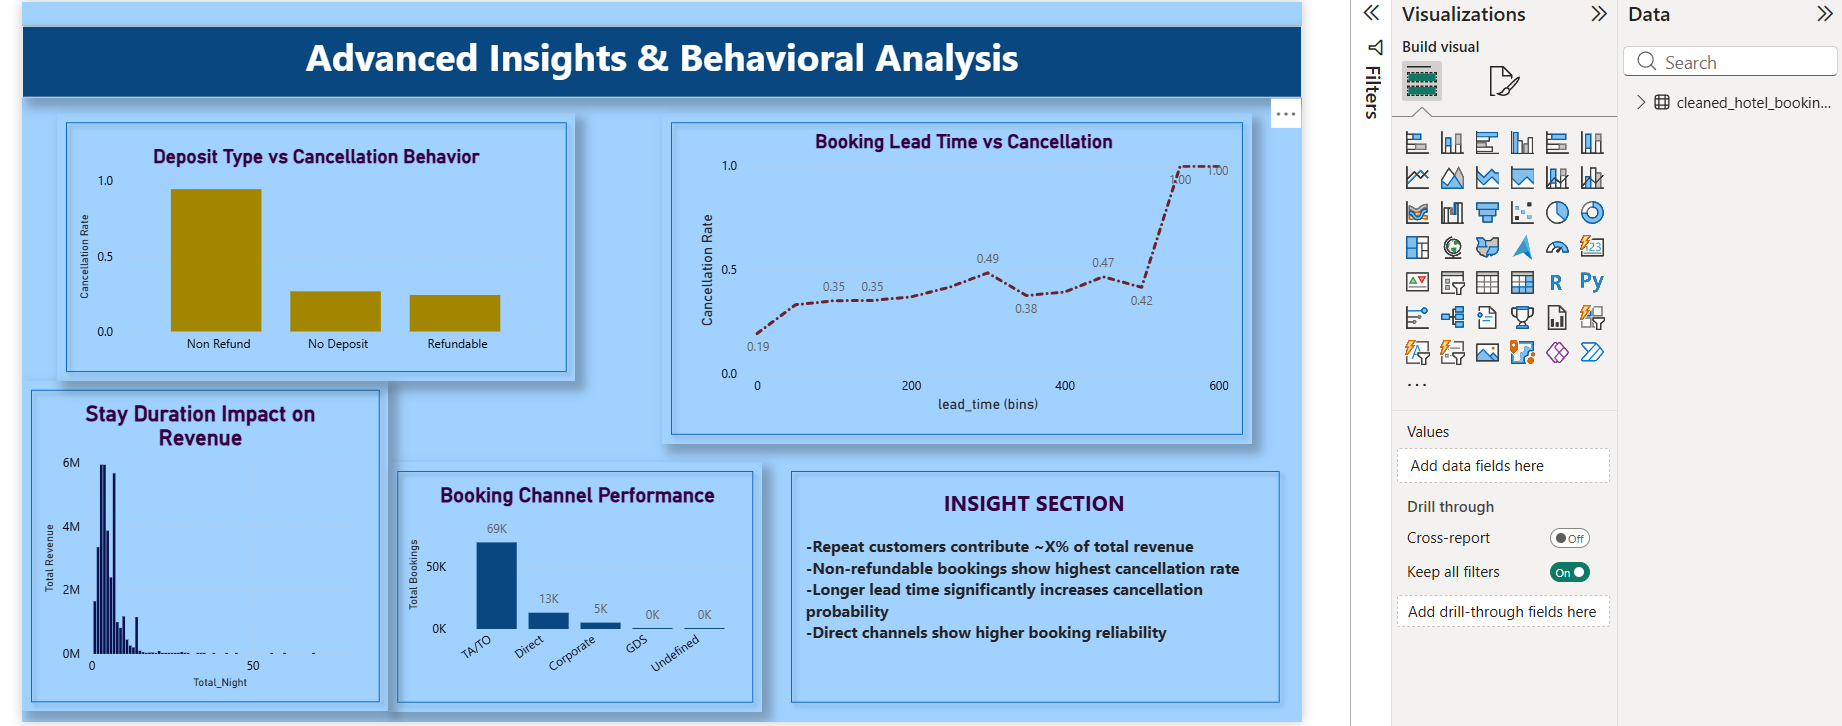

Layout of this report page (visuals, bound fields, positions):
{"tool":"powerbi","page":{"name":"Page 3","canvas":[1280,720],"ordinal":2},"visuals":[{"type":"textbox","box":[0,24.1,1280,72.4],"z":0},{"type":"shape","box":[640.6,111,589.9,330.6],"z":2000},{"type":"shape","box":[0,378.8,366.8,330.6],"z":3000},{"type":"shape","box":[366.8,459.7,374,249.7],"z":4000},{"type":"columnChart","title":"Deposit Type vs Cancellation Behavior","fields":{"Category":["cleaned_hotel_booking (11).deposit_type"],"Y":["cleaned_hotel_booking (11).Cancellation Rate"]},"box":[53.1,143.6,483.8,216],"z":5000},{"type":"lineChart","title":"Booking Lead Time vs Cancellation","fields":{"Y":["cleaned_hotel_booking (11).Cancellation Rate"],"Category":["cleaned_hotel_booking (11).lead_time (bins)"]},"box":[672,129.1,539.3,287.1],"z":6000},{"type":"columnChart","title":"Booking Channel Performance","fields":{"Category":["cleaned_hotel_booking (11).distribution_channel"],"Y":["cleaned_hotel_booking (11).Total Bookings"]},"box":[381.2,481.4,348.7,209.9],"z":7000},{"type":"columnChart","title":"Stay Duration Impact on Revenue","fields":{"Y":["cleaned_hotel_booking (11).Total Revenue"],"Category":["cleaned_hotel_booking (11).Total_Night"]},"box":[16.9,398.1,322.1,293.2],"z":8000},{"type":"shape","box":[760.1,459.7,506.7,249.7],"z":9000},{"type":"textbox","box":[779.4,481.4,466.9,209.9],"z":10000},{"type":"shape","box":[35,111,518.8,267.8],"z":10001}]}

Visuals, with their boxes on the page's 1280x720 design canvas (x1, y1, x2, y2). These are canvas units, not pixel positions in the 1842x726 screenshot, which may show the page scaled, cropped or inside an application window:
textbox: <box>0,24,1280,96</box>
shape: <box>641,111,1230,442</box>
shape: <box>0,379,367,709</box>
shape: <box>367,460,741,709</box>
"Deposit Type vs Cancellation Behavior" columnChart: <box>53,144,537,360</box>
"Booking Lead Time vs Cancellation" lineChart: <box>672,129,1211,416</box>
"Booking Channel Performance" columnChart: <box>381,481,730,691</box>
"Stay Duration Impact on Revenue" columnChart: <box>17,398,339,691</box>
shape: <box>760,460,1267,709</box>
textbox: <box>779,481,1246,691</box>
shape: <box>35,111,554,379</box>
